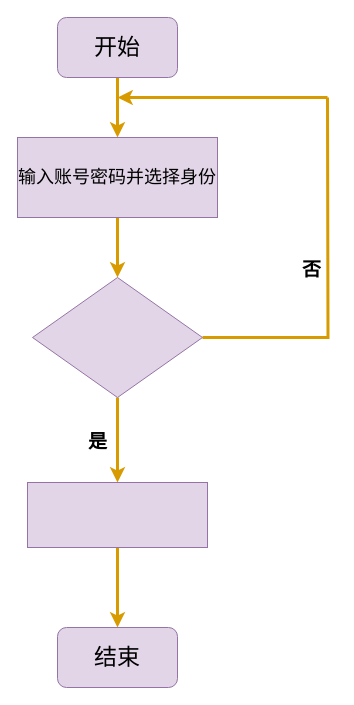
Image size: 354x705. Some labels were removed from this diagram. The shapes that lost their labels are listed below. From the top down, each one's centre as x and y in pixels, then its label:
pixel 117 337: 判断账号密码是否正确
pixel 117 515: 进入首页
